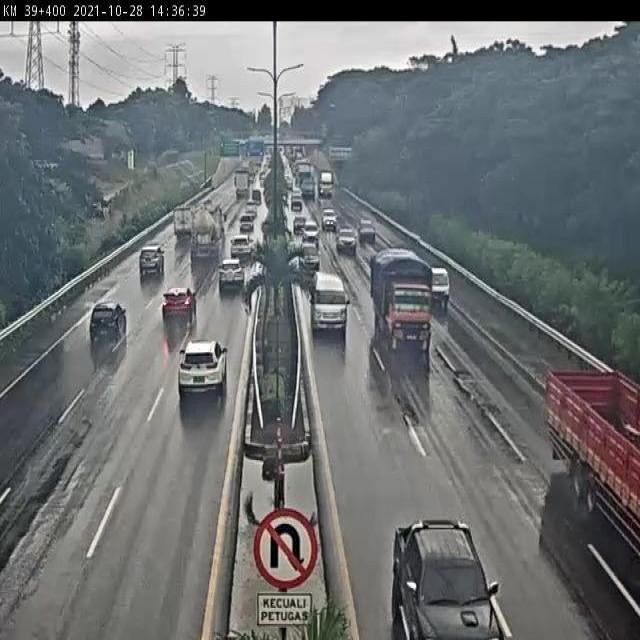truck-m-: (371, 244, 435, 349)
truck-xl-: (190, 203, 229, 261)
